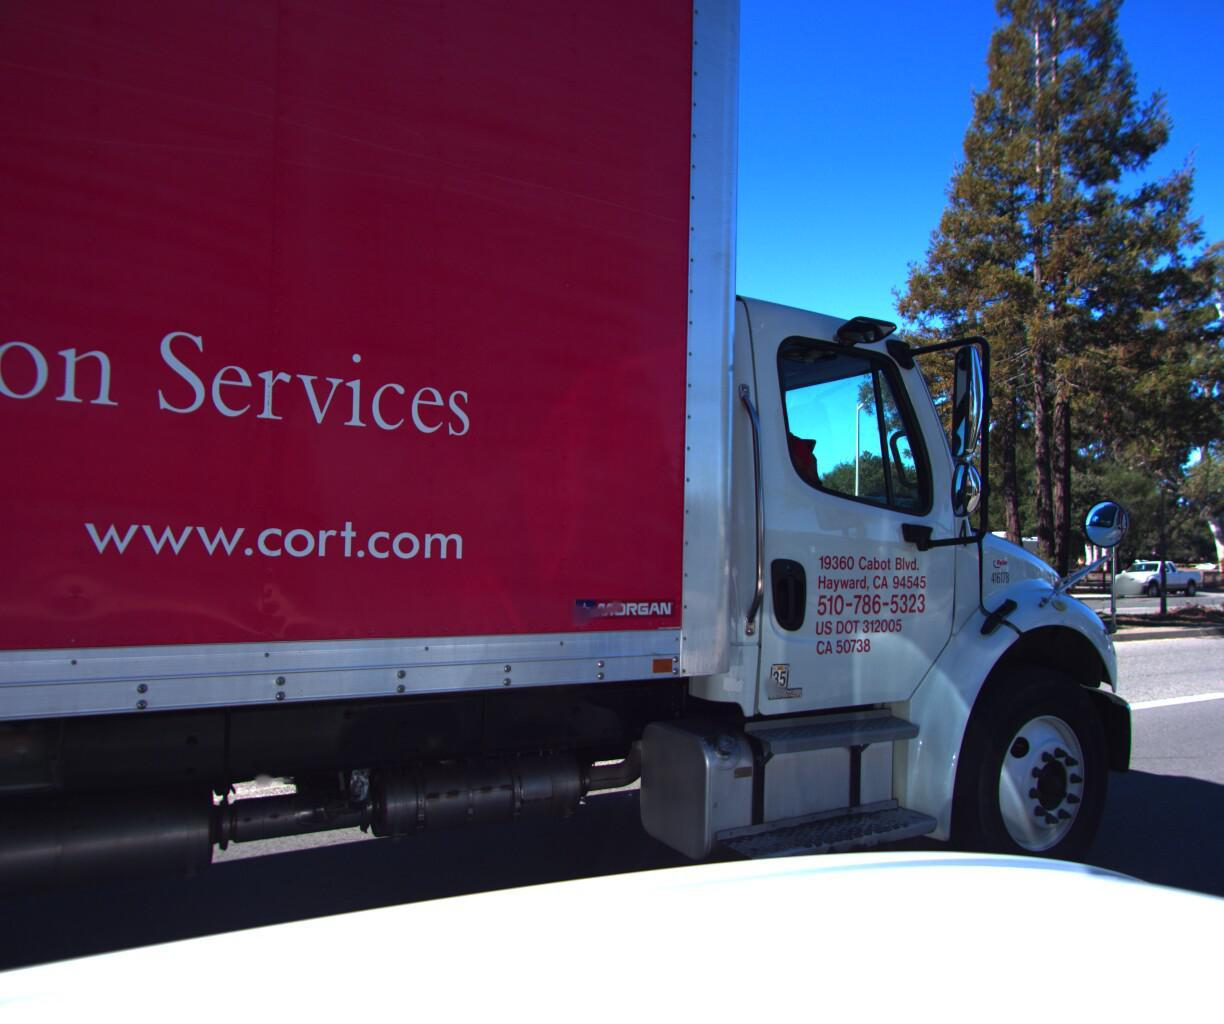car: (1096, 552, 1199, 596)
other_vehicle: (914, 521, 1073, 596)
